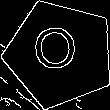O_S: (36, 27, 83, 81)
